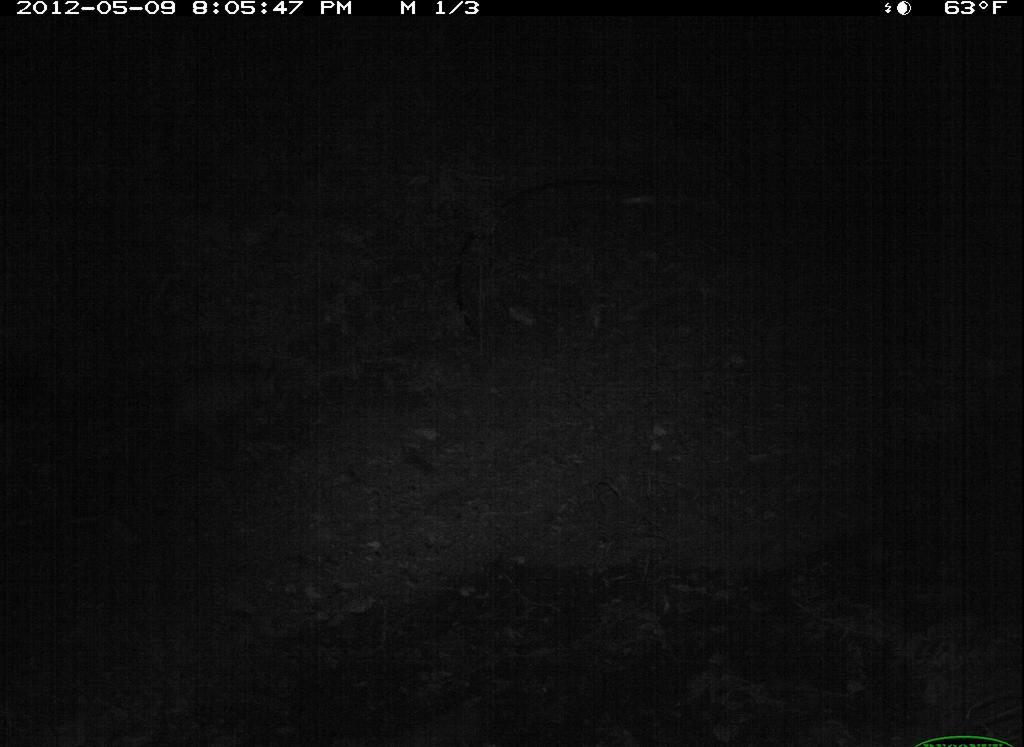opossum: (143, 356, 289, 444)
